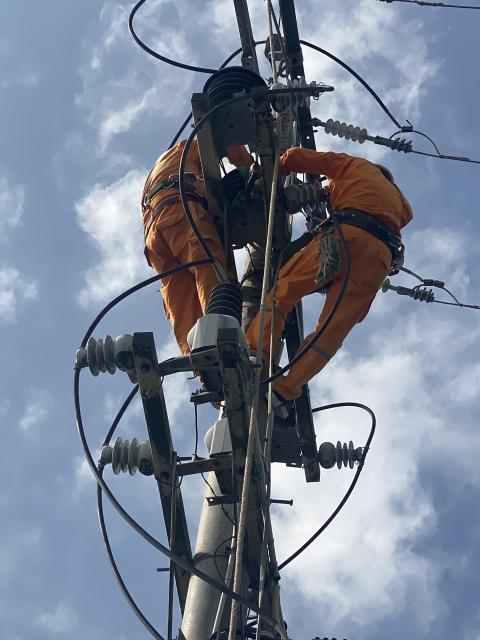harness: (331, 200, 409, 260), (127, 174, 224, 215)
shoes: (265, 390, 298, 422)
